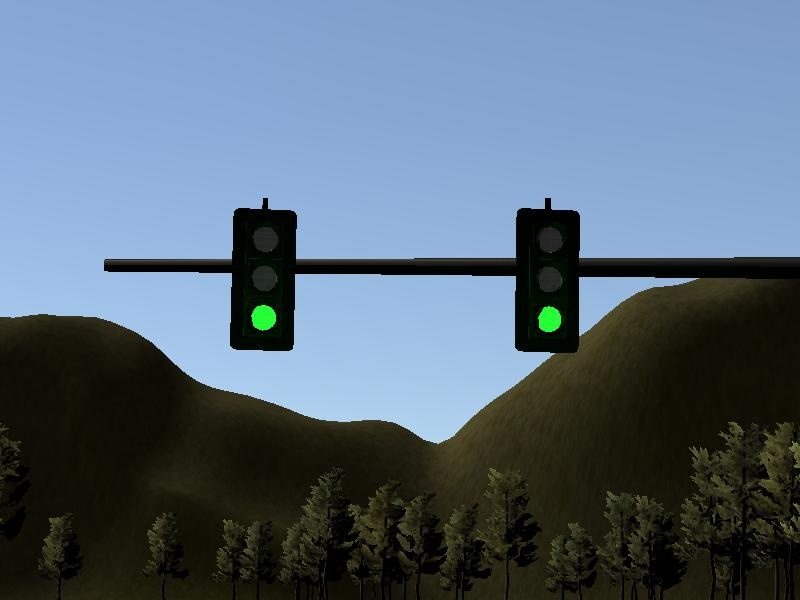traffic_light_green: (199, 199, 795, 353)
